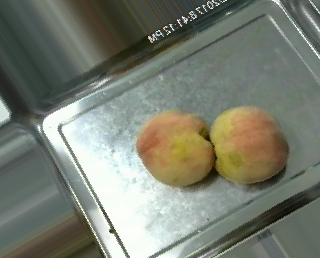Peach: (136, 108, 215, 187), (210, 105, 288, 182)
